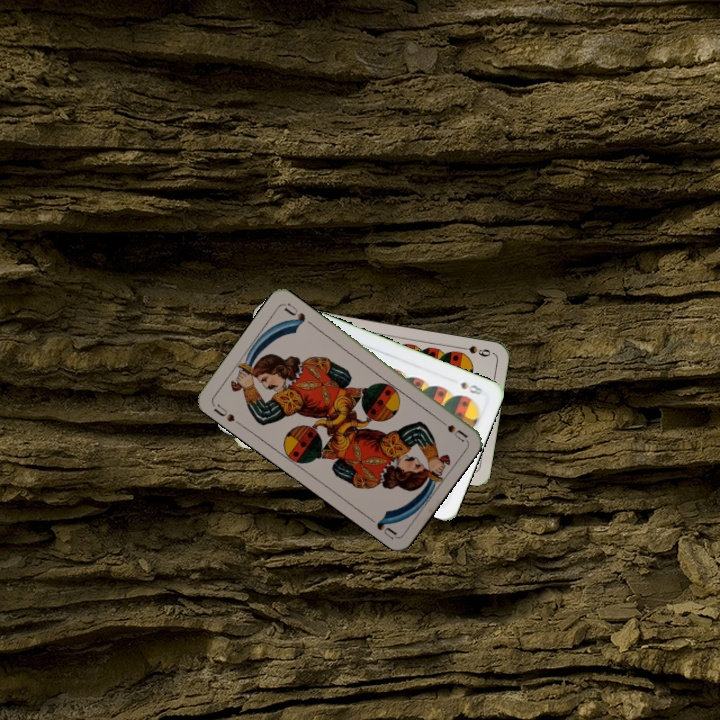S8: (457, 378, 485, 398)
S9: (453, 341, 493, 359)
SU: (433, 413, 470, 444), (209, 400, 237, 424)
